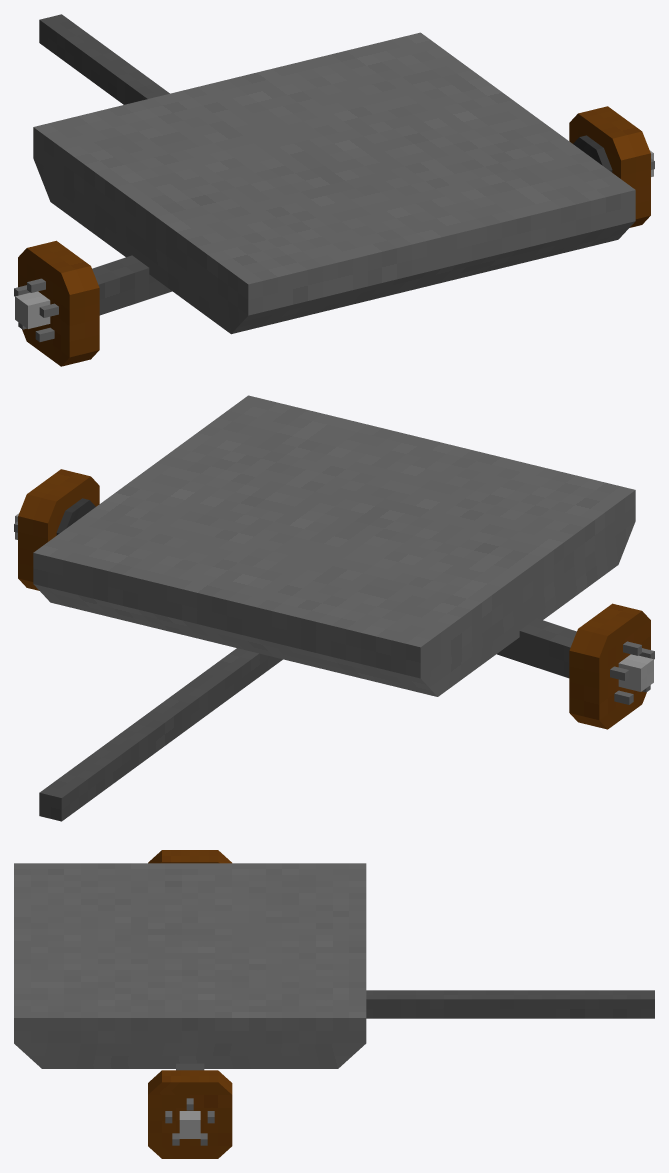
Rendered from lm_suspension_unu_rear_standard_leaf_4wd.obj.
The picture shows the model from 3 angles, top to bottom: view 1: azimuth 30°, elevation 25°; view 2: azimuth 150°, elevation 25°; view 3: azimuth 270°, elevation 25°; orthographic projection. The views are drawn at different scales.
Parts seen in each view (by area): view 1: cuboid, $RightBackWheel, $DriveShaft, $LeftBackWheel, $Axle2_Left, $LeftBack; view 2: cuboid, $DriveShaft, $RightBackWheel, $LeftBackWheel, $Axle2_Left; view 3: cuboid, $DriveShaft, $LeftBackWheel, $RightBackWheel.
Part boxes in pixels (x1,y1,x2,y2): cuboid: (33,32,635,334); $RightBackWheel: (14,240,99,366); $DriveShaft: (39,14,169,104); $LeftBackWheel: (569,106,654,227); $Axle2_Left: (92,255,172,315); $LeftBack: (573,135,612,172); cuboid: (33,395,635,696); $DriveShaft: (39,648,282,821); $RightBackWheel: (569,603,654,729); $LeftBackWheel: (14,469,99,590); $Axle2_Left: (497,618,576,678); cuboid: (14,863,366,1068); $DriveShaft: (366,990,654,1018); $LeftBackWheel: (148,1070,232,1158); $RightBackWheel: (148,850,231,863).
Size of the model in its own units: 2.62 by 0.5 by 2.84.
